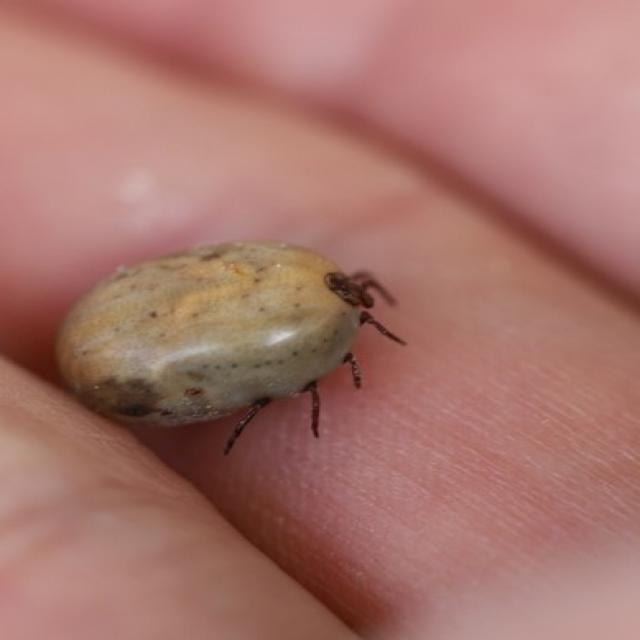Dermacentor Reticulatus-F-Fed: (58, 242, 410, 456)
